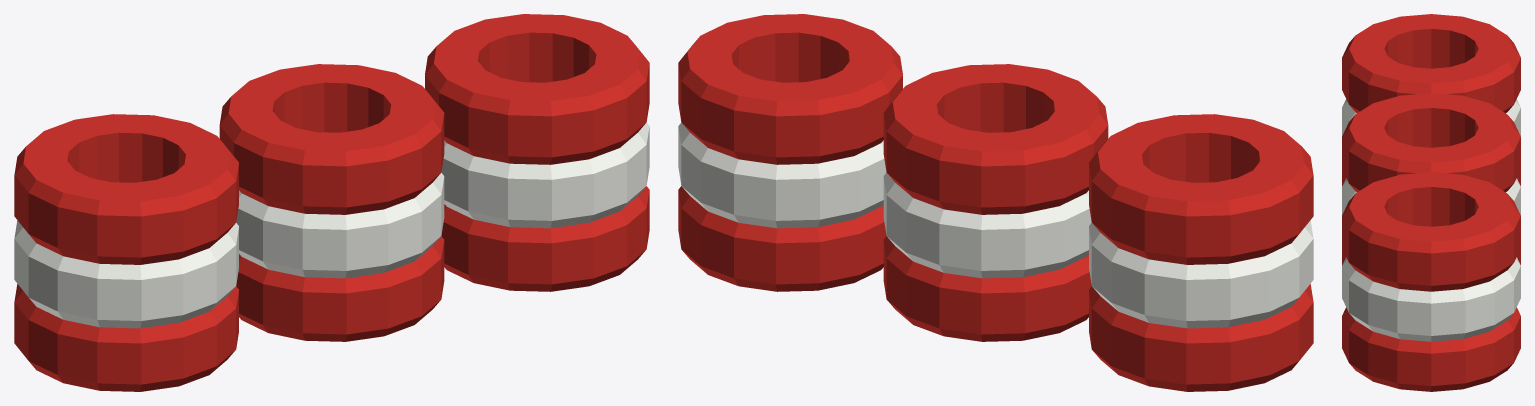
File: tire_wall.glb
The picture shows the model from 3 angles, left to right: view 1: azimuth 30°, elevation 25°; view 2: azimuth 150°, elevation 25°; view 3: azimuth 270°, elevation 25°; orthographic projection. The views are drawn at different scales.
Parts seen in each view (by area): view 1: tire_wall__static; view 2: tire_wall__static; view 3: tire_wall__static.
Boxes of the visible parts, box(x1,y1,x2,y2) form: tire_wall__static: box(14, 14, 649, 391); tire_wall__static: box(678, 14, 1313, 391); tire_wall__static: box(1342, 14, 1520, 391).
Size of the model in its own units: 3.4 by 1.02 by 1.1.
